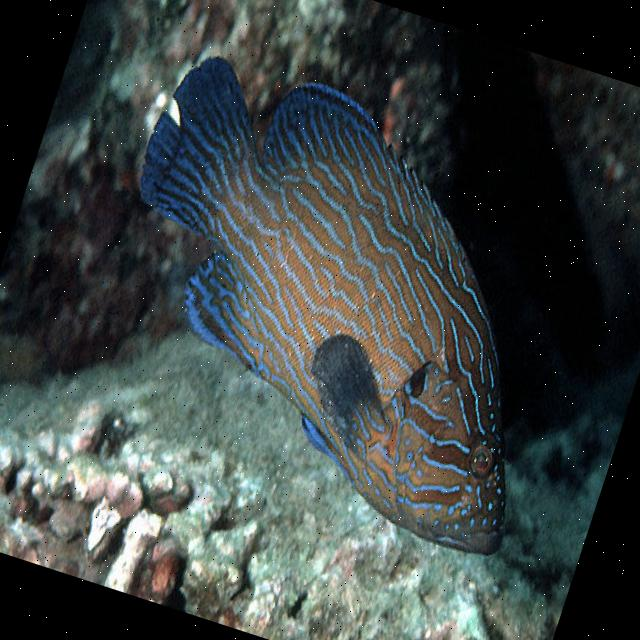ikan: (56, 35, 622, 566)
